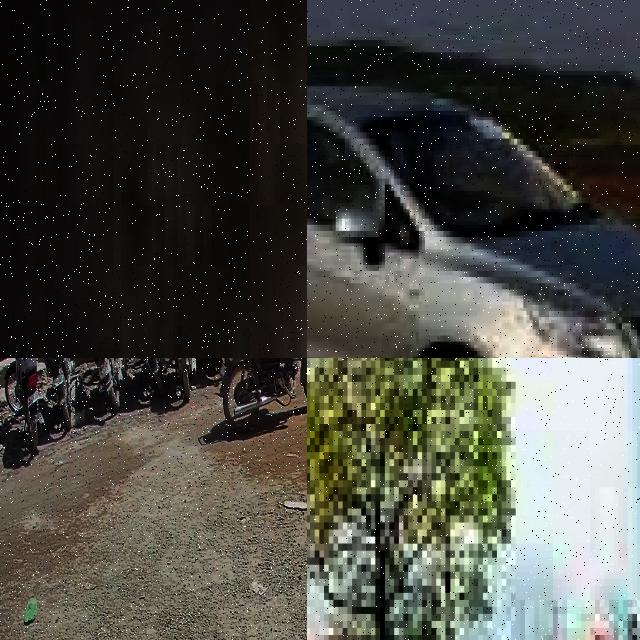bike: (66, 243, 307, 358), (216, 358, 307, 431), (4, 358, 44, 448), (37, 358, 76, 430), (78, 358, 123, 409), (125, 358, 167, 396), (163, 358, 198, 398)
car: (307, 26, 640, 358)
